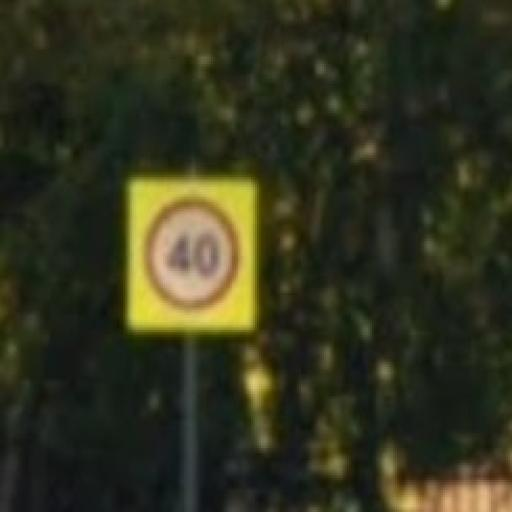traffic_sign: (143, 198, 244, 314)
